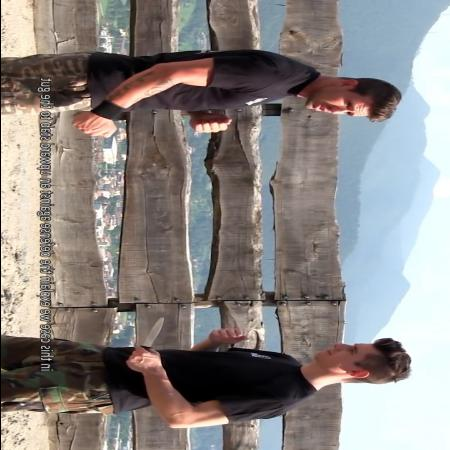long weapon: (124, 313, 172, 373)
